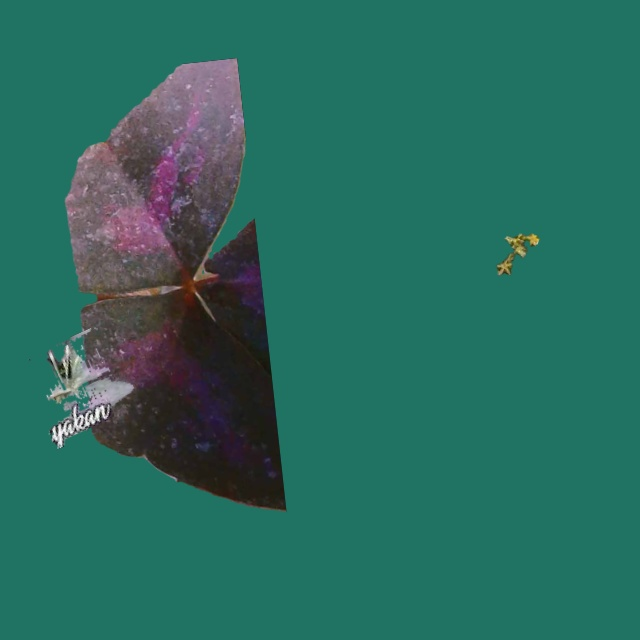butterfly flower: (65, 58, 285, 511), (29, 328, 133, 448)
ylang-ylang: (496, 234, 539, 274)
